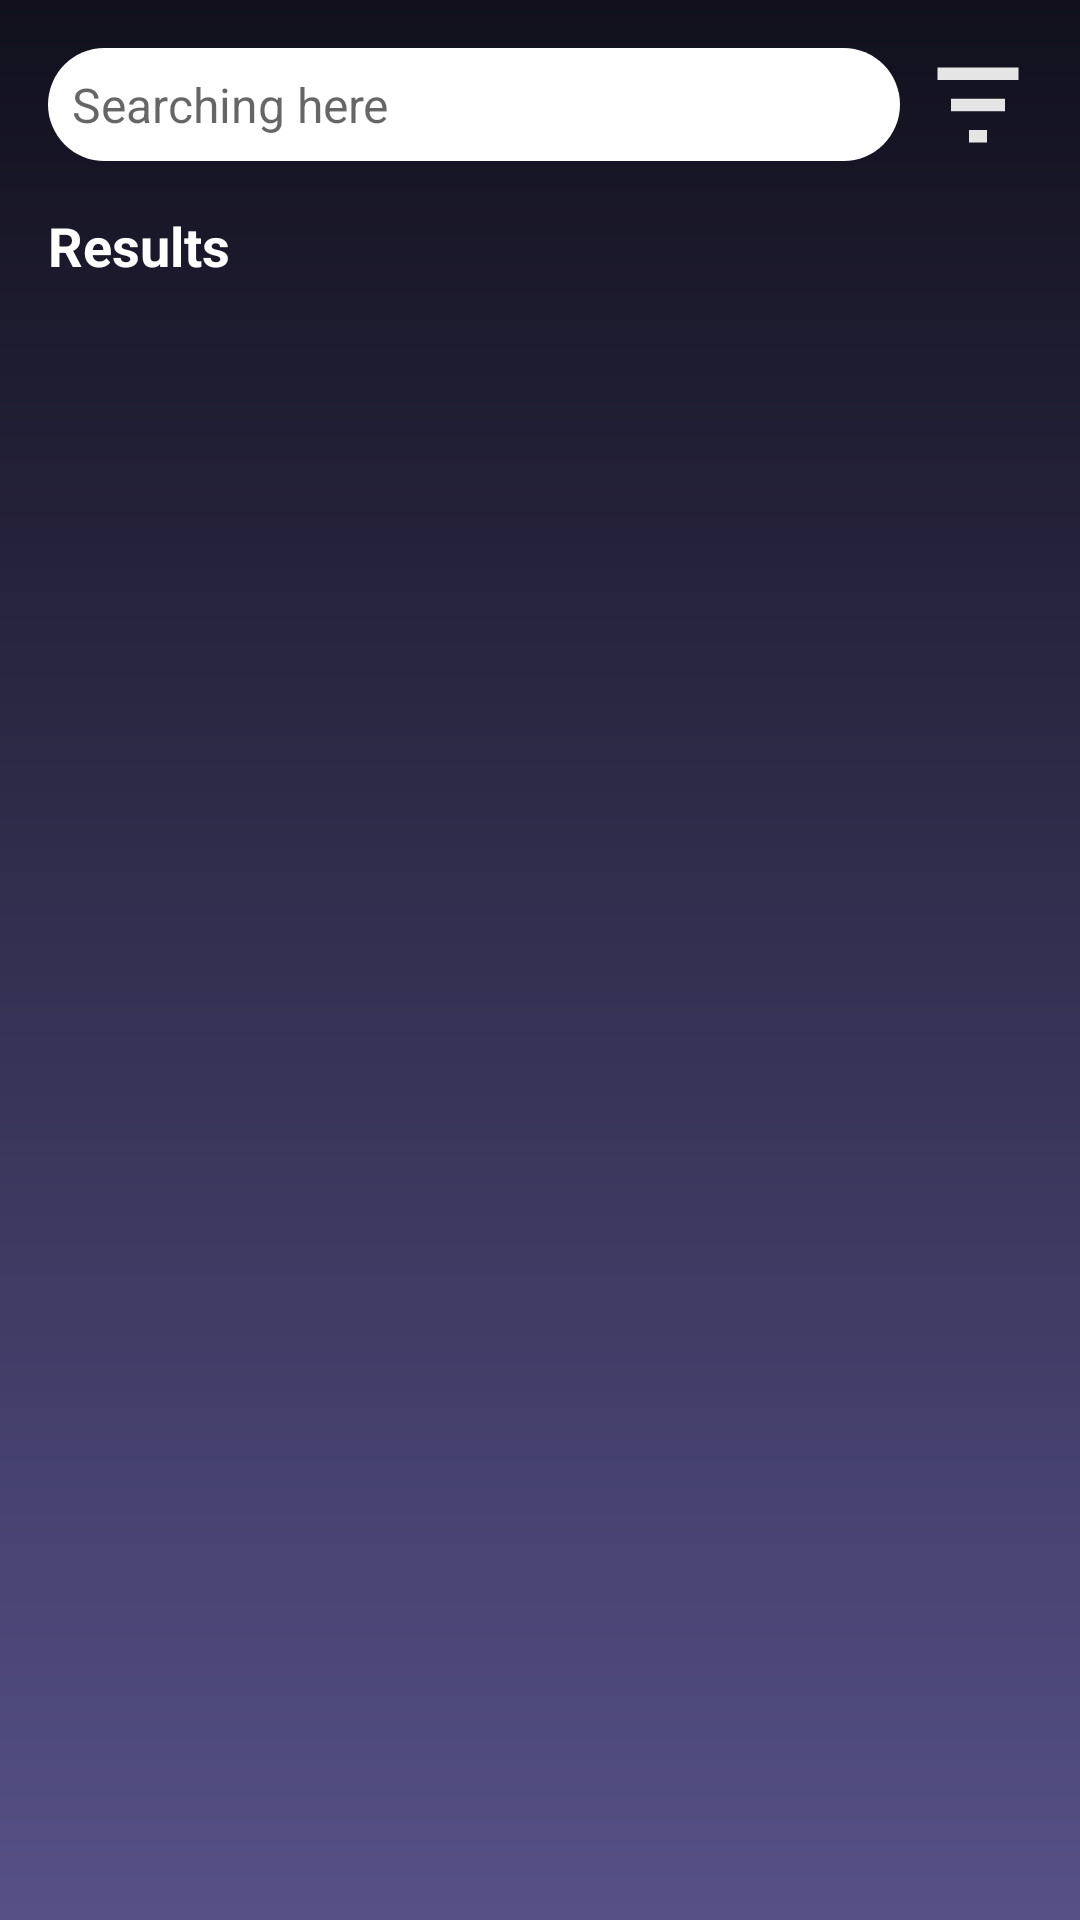

Where icons sit on this 1080w x 1920h app screen, as (x1, y1, x2, y2):
search filter: (937, 67, 1019, 143)
